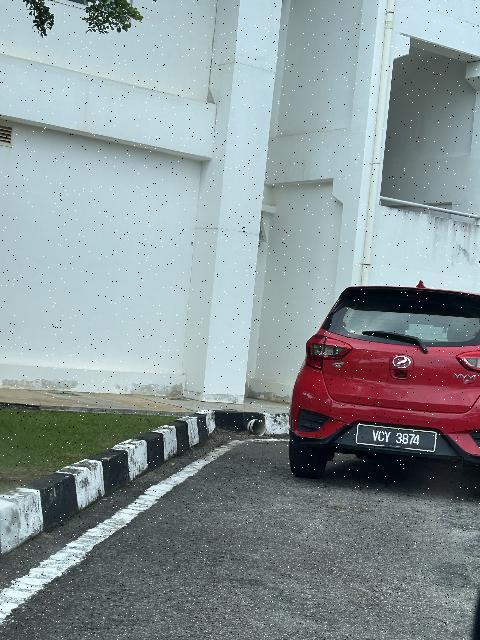License_Plate: (352, 424, 442, 455)
VCY3874: (352, 424, 442, 455)
car: (290, 281, 480, 492)
